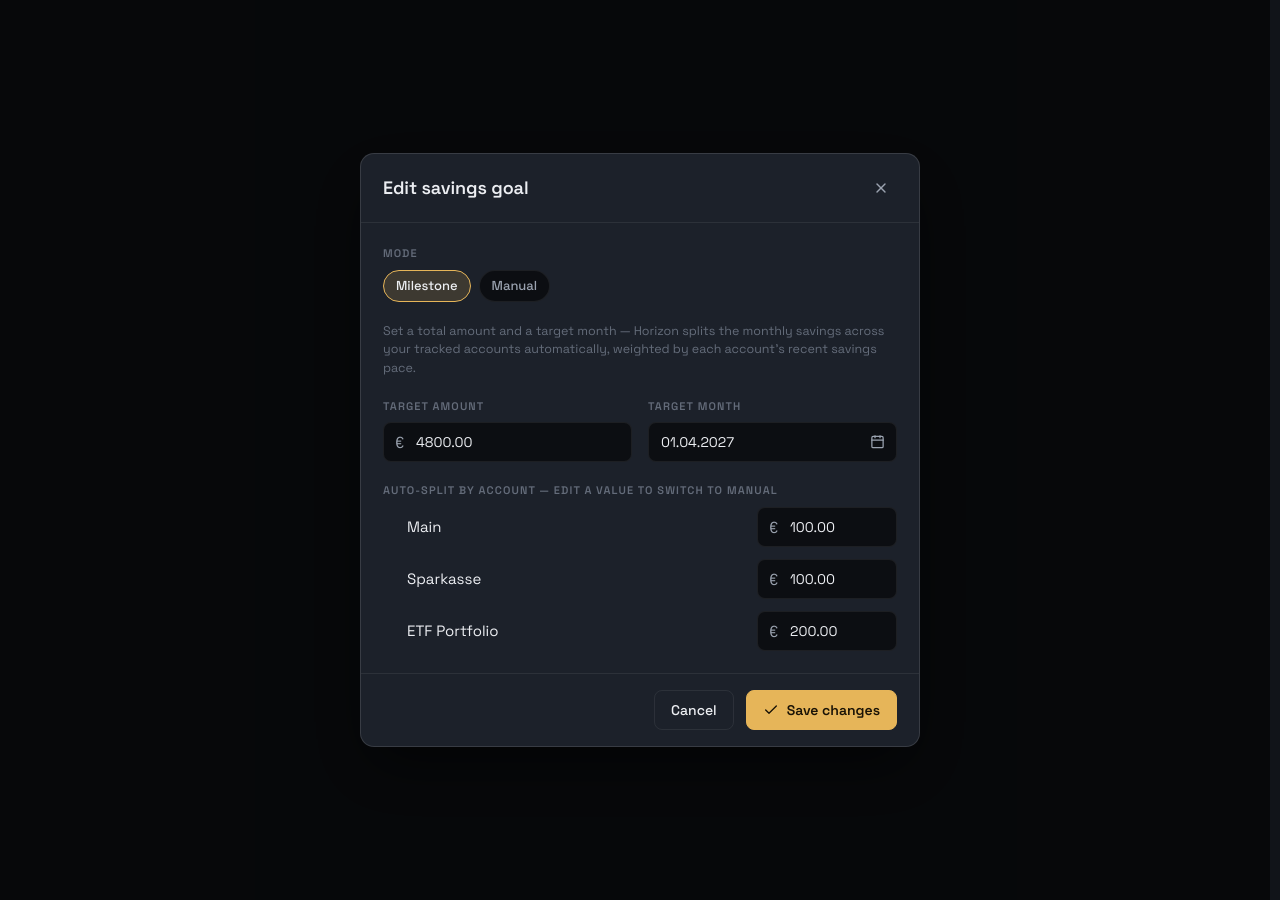
Test: SavingsGoalModal — Milestone mode › silently converts to Manual when a row is edited, pre-filled with the split
The image size is (1280, 900).
# Override ETF's derived €200 with €250.
Replace the text in the field showing "200.00" with "250.00" at (827, 631), box [757,611,897,651]
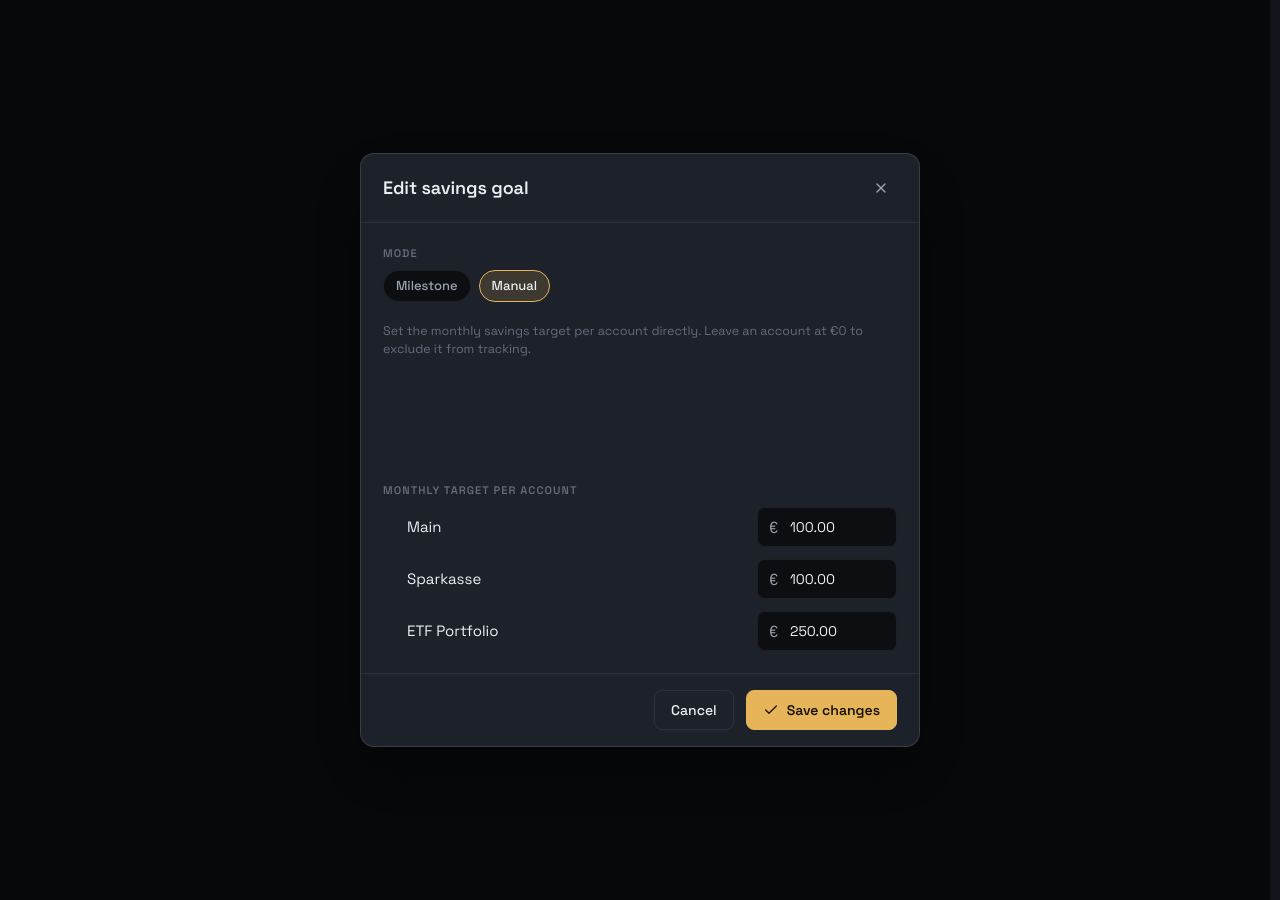
Expected: the button "Manual" is shown, [479,270,550,302]
Expected: the number of fields showing "100.00" is 2, [757,507,897,547]; [757,559,897,599]
